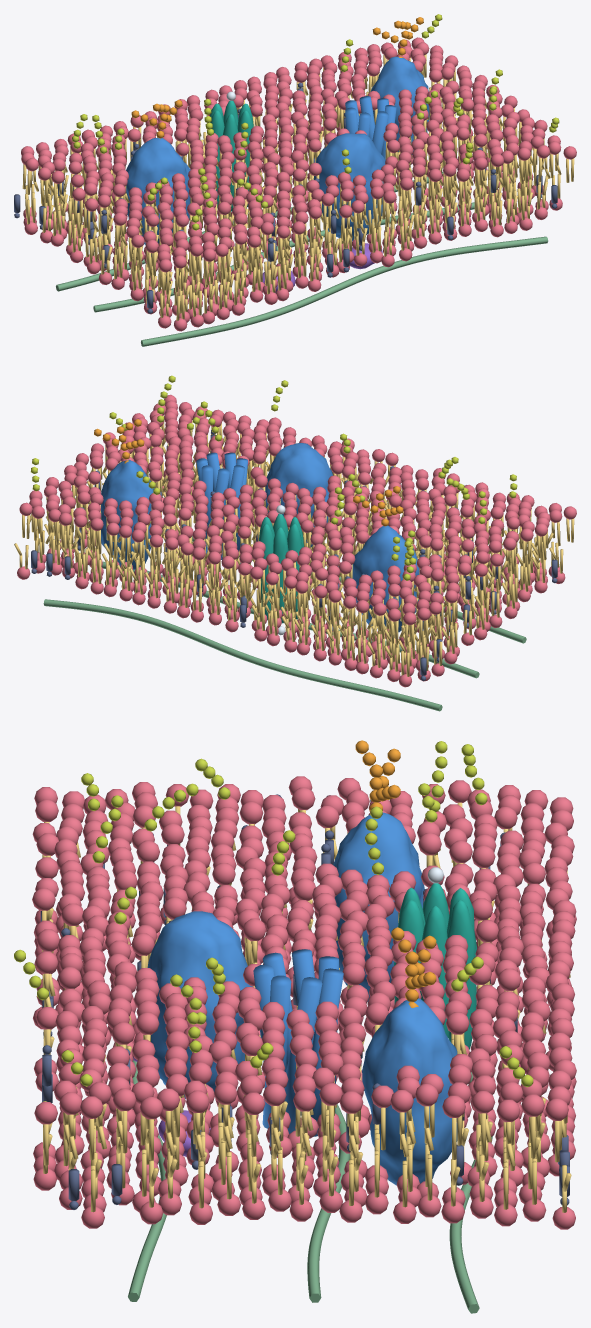
Rendered from celula-lupa_membrana.glb.
3 renders of one model, top to bottom at view 1: azimuth 30°, elevation 25°; view 2: azimuth 150°, elevation 25°; view 3: azimuth 270°, elevation 25°, orthographic. The views are drawn at different scales.
Parts seen in each view (by area): view 1: fosfolipidio_cabecas, fosfolipidio_caudas, proteina_integral, filamentos, glicolipidio_acucar, colesterol, glicolipidio_cabecas, proteina_canal, glicoproteina; view 2: fosfolipidio_cabecas, fosfolipidio_caudas, proteina_integral, filamentos, glicolipidio_acucar, colesterol, proteina_canal, glicolipidio_cabecas, glicoproteina; view 3: fosfolipidio_cabecas, proteina_integral, fosfolipidio_caudas, glicolipidio_acucar, glicolipidio_cabecas, proteina_canal, filamentos, colesterol, glicoproteina.
Boxes of the visible parts, bbox=[...] form: fosfolipidio_cabecas: bbox=[21, 37, 576, 331]; fosfolipidio_caudas: bbox=[22, 54, 574, 320]; proteina_integral: bbox=[125, 56, 429, 244]; filamentos: bbox=[56, 172, 548, 346]; glicolipidio_acucar: bbox=[72, 14, 559, 230]; colesterol: bbox=[14, 82, 557, 313]; glicolipidio_cabecas: bbox=[69, 42, 560, 246]; proteina_canal: bbox=[210, 100, 253, 211]; glicoproteina: bbox=[131, 17, 423, 138]; fosfolipidio_cabecas: bbox=[17, 394, 576, 687]; fosfolipidio_caudas: bbox=[14, 414, 574, 676]; proteina_integral: bbox=[101, 443, 419, 632]; filamentos: bbox=[43, 526, 526, 711]; glicolipidio_acucar: bbox=[30, 375, 517, 580]; colesterol: bbox=[31, 430, 557, 680]; proteina_canal: bbox=[258, 514, 303, 623]; glicolipidio_cabecas: bbox=[29, 403, 519, 599]; glicoproteina: bbox=[94, 419, 403, 526]; fosfolipidio_cabecas: bbox=[32, 776, 576, 1229]; proteina_integral: bbox=[147, 812, 457, 1185]; fosfolipidio_caudas: bbox=[42, 802, 571, 1212]; glicolipidio_acucar: bbox=[14, 741, 533, 1087]; glicolipidio_cabecas: bbox=[36, 807, 544, 1118]; proteina_canal: bbox=[394, 883, 477, 1049]; filamentos: bbox=[128, 1060, 492, 1313]; colesterol: bbox=[40, 794, 569, 1209]; glicoproteina: bbox=[355, 740, 436, 1008].
Size of the model in its own units: 7.01 by 3.25 by 4.74.
